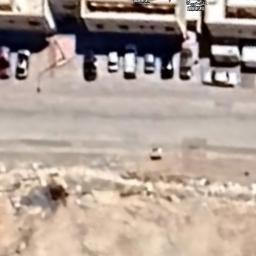others: (206, 44, 242, 67)
sedan: (200, 68, 240, 88), (158, 48, 176, 80), (82, 48, 98, 83), (14, 48, 30, 80), (0, 43, 12, 81), (179, 47, 192, 80)
truck: (123, 41, 139, 80)
van: (105, 46, 120, 74), (143, 48, 158, 75)
